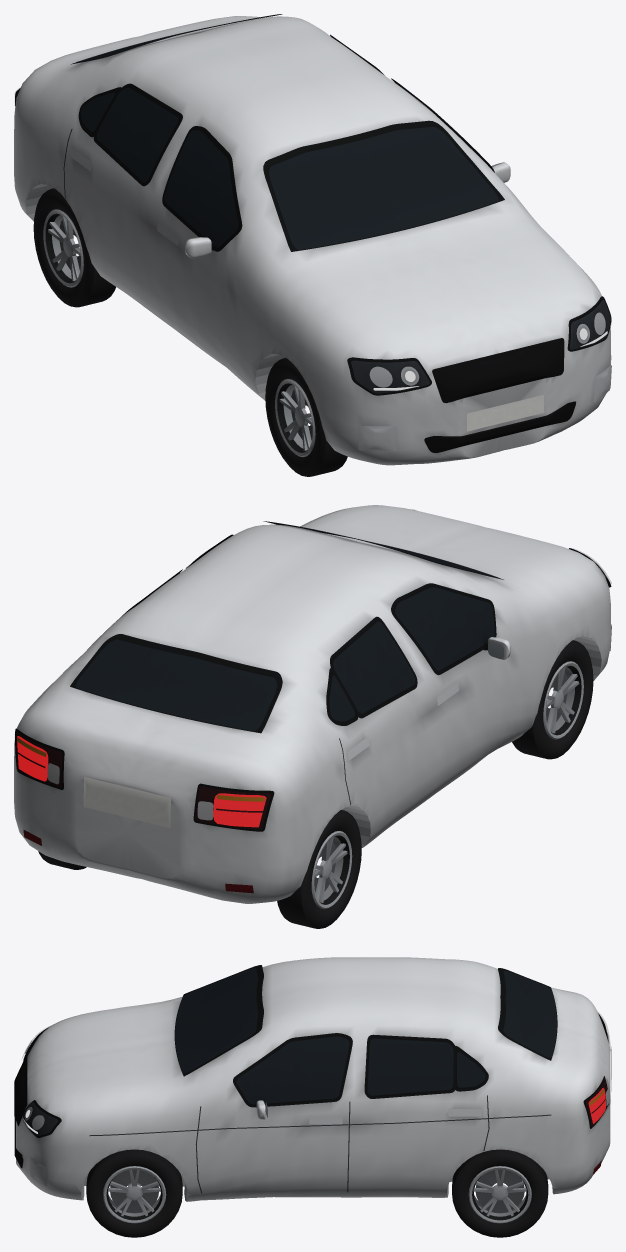
File: compact_sedan.glb
The picture shows the model from 3 angles, top to bottom: view 1: azimuth 30°, elevation 25°; view 2: azimuth 150°, elevation 25°; view 3: azimuth 270°, elevation 25°; orthographic projection. The views are drawn at different scales.
Visible parts, largest first — view 1: body, wheel_FR, wheel_RR; view 2: body, wheel_RR, wheel_FR; view 3: body, wheel_FL, wheel_RL.
Boxes of the visible parts, x1,y1,x2,y2 form: body: (14, 14, 611, 465); wheel_FR: (265, 358, 347, 476); wheel_RR: (33, 188, 115, 307); body: (14, 505, 611, 903); wheel_RR: (277, 810, 361, 928); wheel_FR: (512, 640, 593, 759); body: (14, 957, 611, 1201); wheel_FL: (86, 1149, 182, 1237); wheel_RL: (452, 1149, 548, 1237).
Size of the model in its own units: 1.98 by 1.52 by 4.01.
